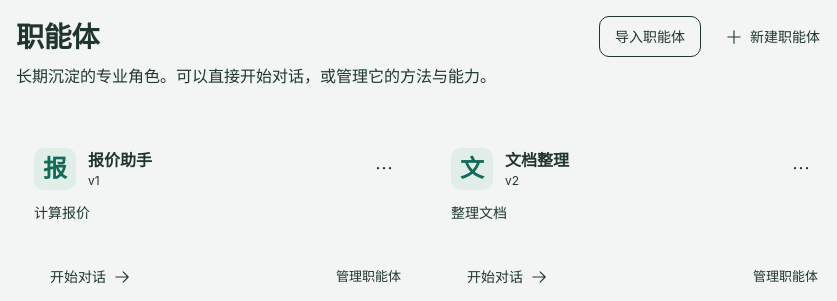
Test: menu opens on click and shows "编辑名称与用途"
This screenshot has width=837, height=301.
Expected: the text "报价助手" is shown, [88,150,152,170]
Click the button named "更多操作" at (385, 169), box [369,153,401,185]
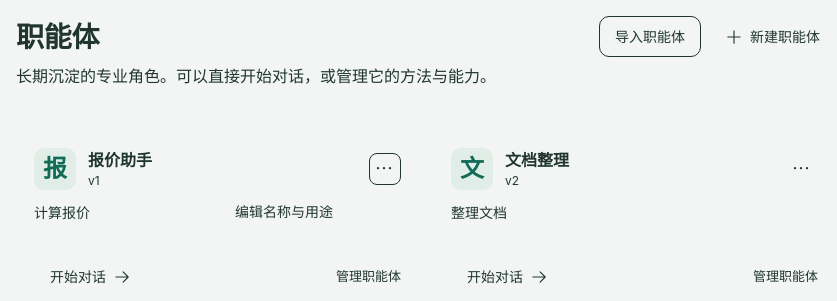
Now the menu named "职能体操作" is shown, box [221,189,401,234]
Now the menu item "编辑名称与用途" is shown, box [225,193,397,230]
